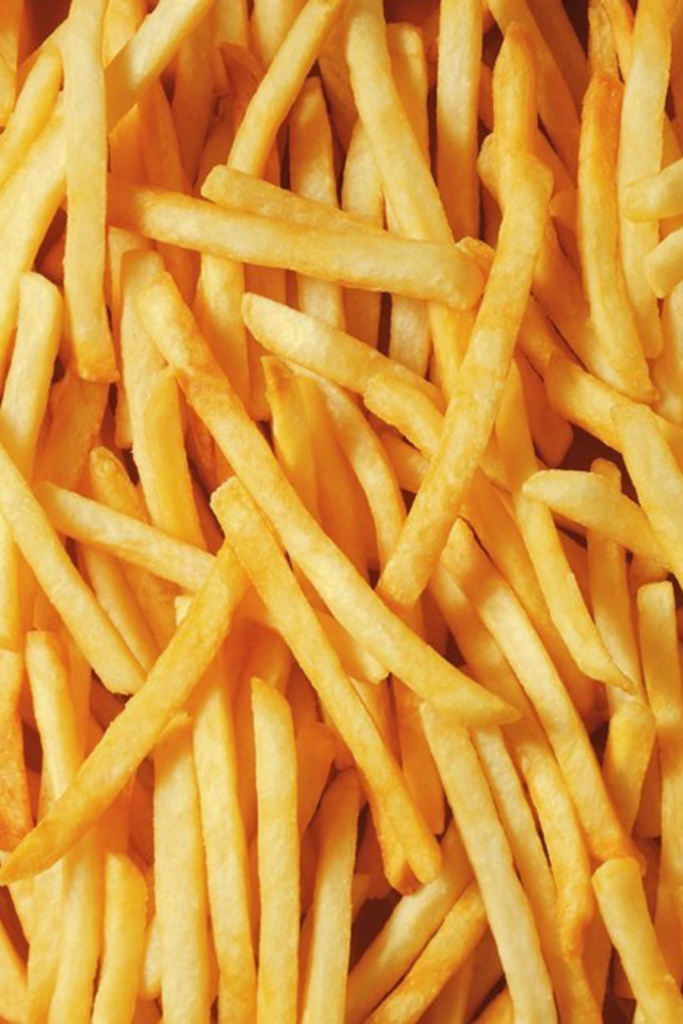French fries: (0, 0, 681, 1022)
